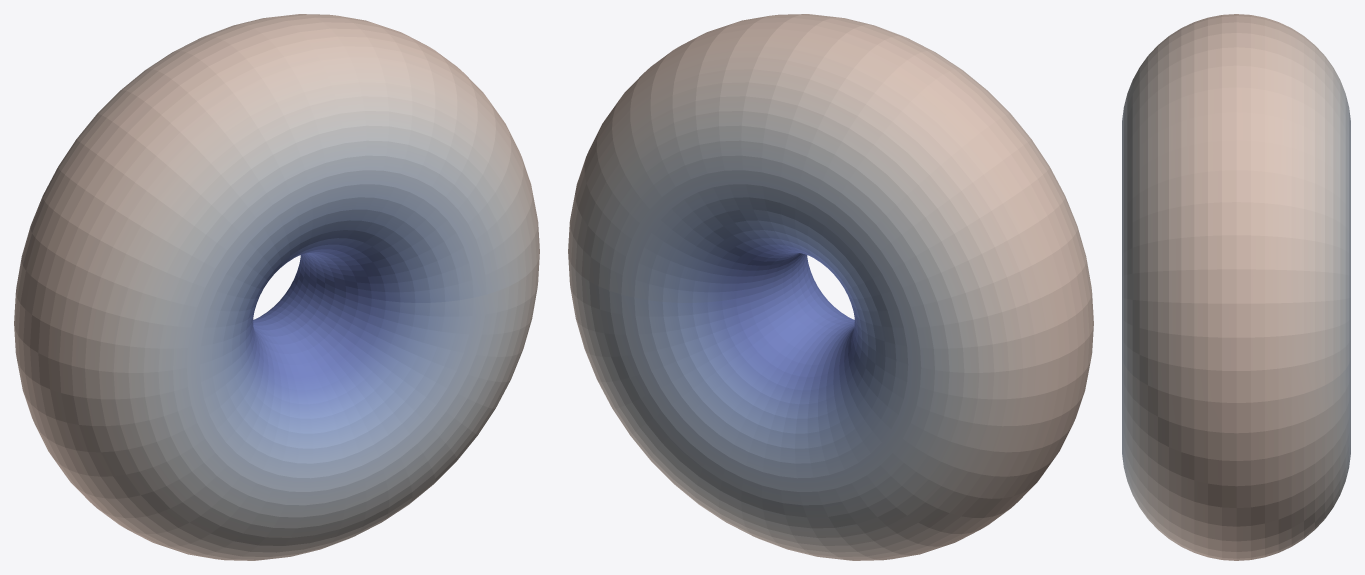
3 views of the same model, side by side, from view 1: azimuth 30°, elevation 25°; view 2: azimuth 150°, elevation 25°; view 3: azimuth 270°, elevation 25° (orthographic). The views are drawn at different scales.
Parts seen in each view (by area): view 1: world; view 2: world; view 3: world.
Boxes of the visible parts, x1=… form: world: x1=14, y1=14, x2=539, y2=560; world: x1=568, y1=14, x2=1093, y2=560; world: x1=1122, y1=14, x2=1350, y2=560.
Size of the model in its own units: 20.67 by 20.63 by 8.65.
